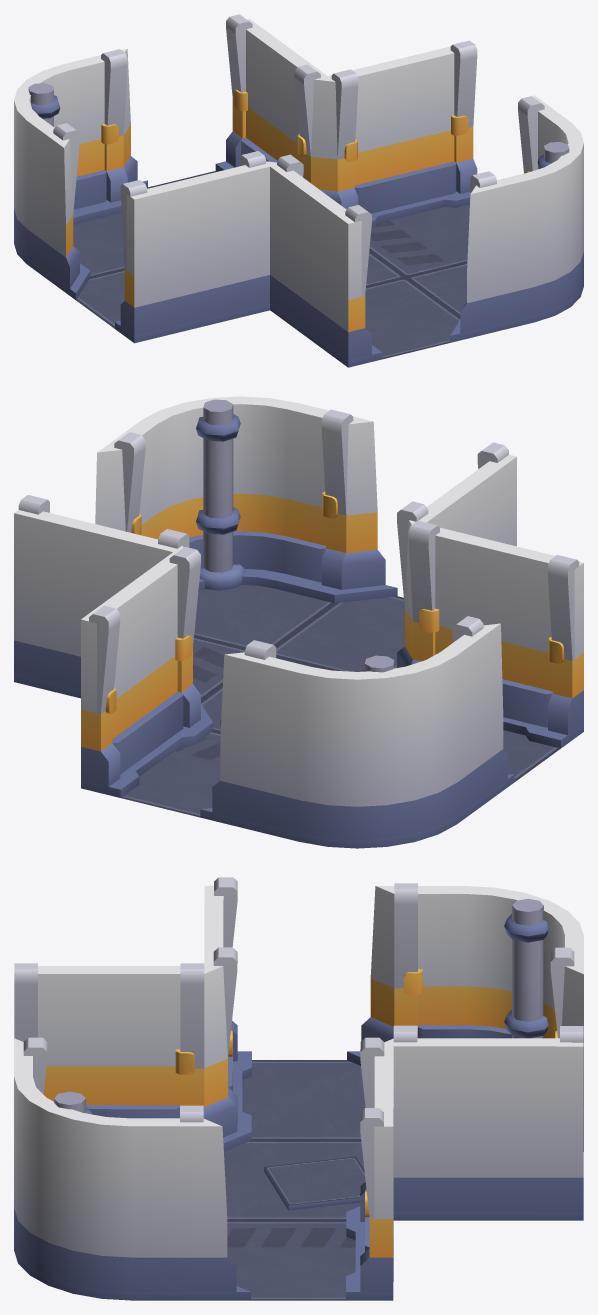
File: room-small-variation.001_lev4.glb
3 views of the same model, one above another, from view 1: azimuth 30°, elevation 25°; view 2: azimuth 150°, elevation 25°; view 3: azimuth 270°, elevation 25° (orthographic). The views are drawn at different scales.
Visible parts, largest first — view 1: room-small-variation.001_lev4; view 2: room-small-variation.001_lev4; view 3: room-small-variation.001_lev4.
Part boxes in pixels (x1=…): room-small-variation.001_lev4: x1=14, y1=14, x2=583, y2=367; room-small-variation.001_lev4: x1=14, y1=396, x2=583, y2=848; room-small-variation.001_lev4: x1=14, y1=877, x2=583, y2=1300.
Size of the model in its own units: 36.02 by 12.75 by 36.04.
1 material, 1 textured.
